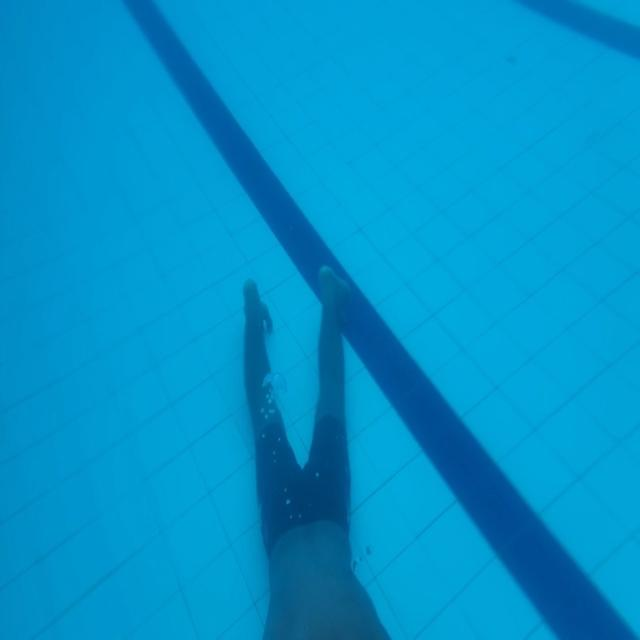Drowning: (240, 268, 390, 640)
